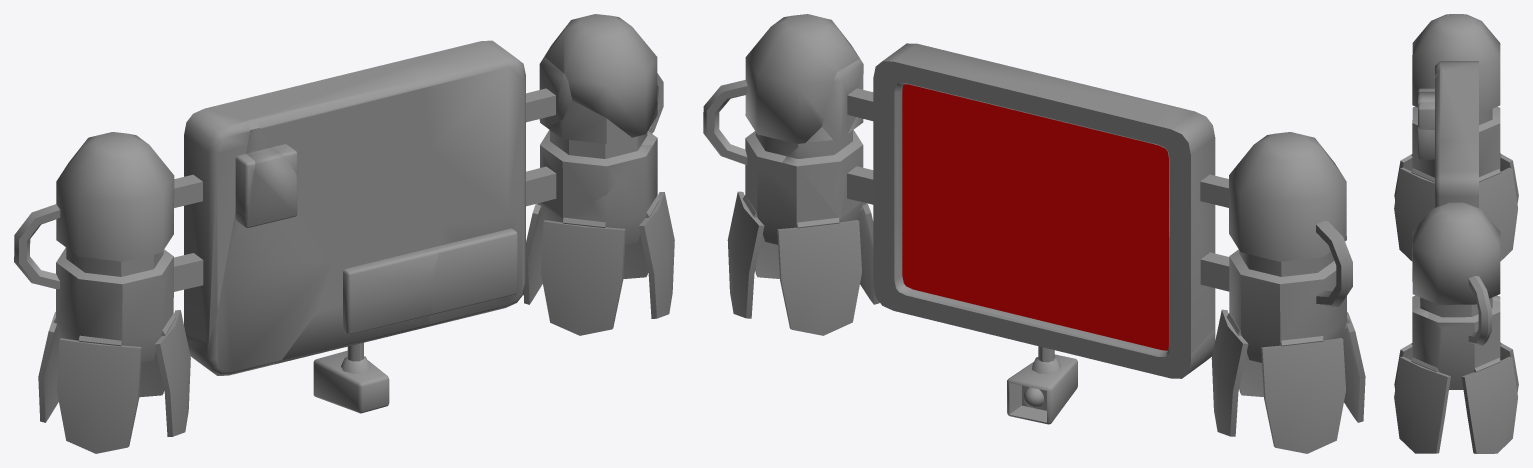
Rendered from prop_screen_brake.FBX.
The picture shows the model from 3 angles, left to right: view 1: azimuth 30°, elevation 25°; view 2: azimuth 150°, elevation 25°; view 3: azimuth 270°, elevation 25°; orthographic projection. The views are drawn at different scales.
Parts seen in each view (by area): view 1: tvdestroy_Part_9, tvdestroy_Part_8, tvdestroy_Part_5, tvdestroy_Part_6, tvdestroy_Part_3, tvdestroy_Part_2, Cylinder013, Cylinder009, tvdestroy_Part_1, tvdestroy_Part_4, tvdestroy_Part_10, tvdestroy_Part_7 (+7 smaller); view 2: tvdestroy_Part_9, tvdestroy_Part_8, tvdestroy_Part_6, tvdestroy_Part_5, tvdestroy_Part_3, tvdestroy_Part_2, Cylinder008, Cylinder012, tvdestroy_Part_10, tvdestroy_Part_4, tvdestroy_Part_1, Sphere001 (+7 smaller); view 3: tvdestroy_Part_3, tvdestroy_Part_9, Cylinder014, Cylinder011, tvdestroy_Part_7, tvdestroy_Part_8, tvdestroy_Part_6, Cylinder010, Cylinder007, tvdestroy_Part_5, Cylinder012, Cylinder008 (+3 smaller).
Boxes of the visible parts, x1,y1,x2,y2 form: tvdestroy_Part_9: (14, 103, 255, 362); tvdestroy_Part_8: (228, 60, 442, 245); tvdestroy_Part_5: (186, 103, 337, 375); tvdestroy_Part_6: (403, 40, 572, 223); tvdestroy_Part_3: (543, 14, 663, 145); tvdestroy_Part_2: (428, 205, 528, 326); Cylinder013: (541, 217, 625, 335); Cylinder009: (57, 335, 141, 453); tvdestroy_Part_1: (528, 100, 638, 216); tvdestroy_Part_4: (317, 226, 440, 310); tvdestroy_Part_10: (274, 285, 431, 364); tvdestroy_Part_7: (540, 143, 657, 244); tvdestroy_Part_9: (1149, 106, 1352, 362); tvdestroy_Part_8: (958, 64, 1169, 242); tvdestroy_Part_6: (822, 43, 1002, 221); tvdestroy_Part_5: (1071, 105, 1215, 378); tvdestroy_Part_3: (703, 14, 861, 169); tvdestroy_Part_2: (873, 214, 969, 326); Cylinder008: (1261, 336, 1345, 453); Cylinder012: (777, 217, 861, 335); tvdestroy_Part_10: (960, 272, 1127, 367); tvdestroy_Part_4: (958, 221, 1090, 305); tvdestroy_Part_1: (773, 117, 873, 217); Sphere001: (1007, 354, 1077, 424); tvdestroy_Part_3: (1412, 202, 1500, 345); tvdestroy_Part_9: (1412, 14, 1500, 177); Cylinder014: (1394, 356, 1450, 453); Cylinder011: (1461, 356, 1517, 453); tvdestroy_Part_7: (1412, 306, 1500, 389); tvdestroy_Part_8: (1418, 72, 1478, 142); tvdestroy_Part_6: (1435, 138, 1478, 207); Cylinder010: (1394, 167, 1434, 261); Cylinder007: (1479, 167, 1517, 261); tvdestroy_Part_5: (1418, 71, 1478, 159); Cylinder012: (1500, 342, 1518, 392); Cylinder008: (1500, 153, 1518, 203).
Size of the model in its own units: 320 by 154 by 66.99.
